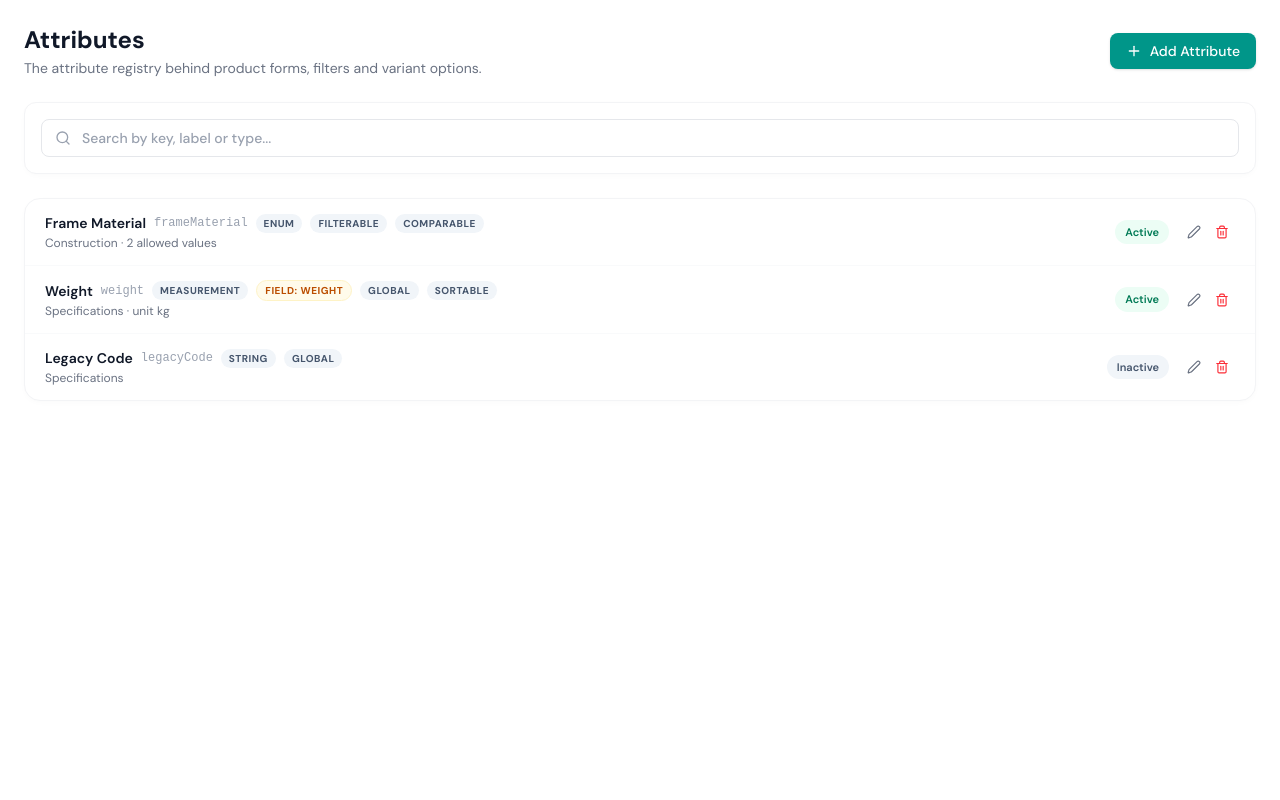
Test case: Attributes admin (Phase 6) › keeps the key immutable on edit and shows the allowed-values editor for enums
Step 1. Click the button titled "Edit" in the row of "Comparable" → (1194, 232), box [1181,219,1207,245]
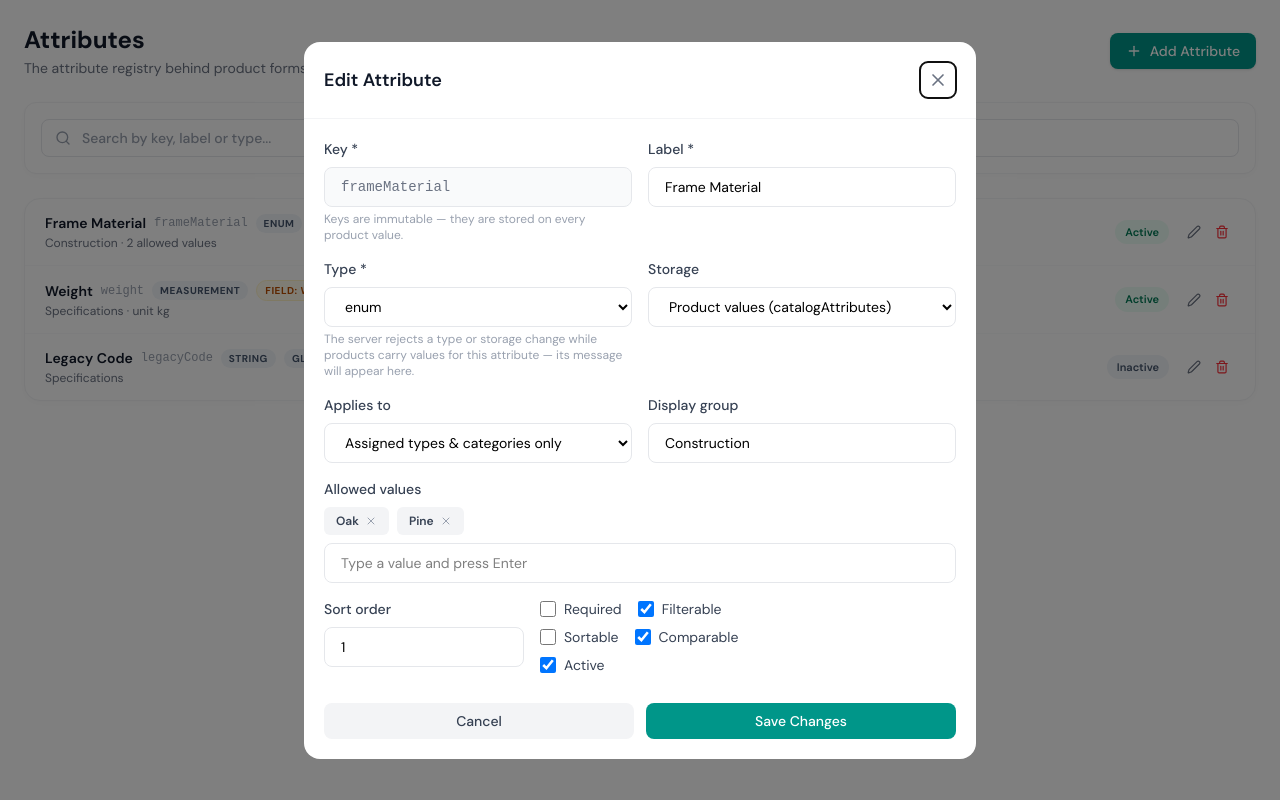
Now the field labelled "Key *" holds "frameMaterial", box [324,166,632,206]
Now the field labelled "Key *" is disabled, box [324,166,632,206]
Now the text "Oak" is shown, box [324,506,389,534]
